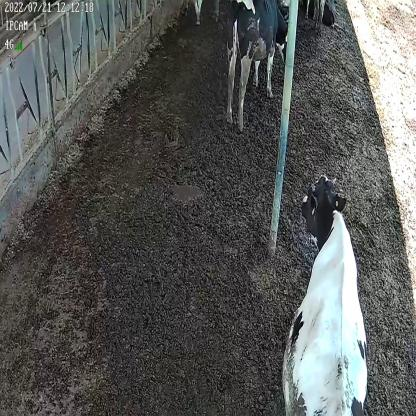cow: (281, 170, 370, 416), (226, 0, 289, 132)
